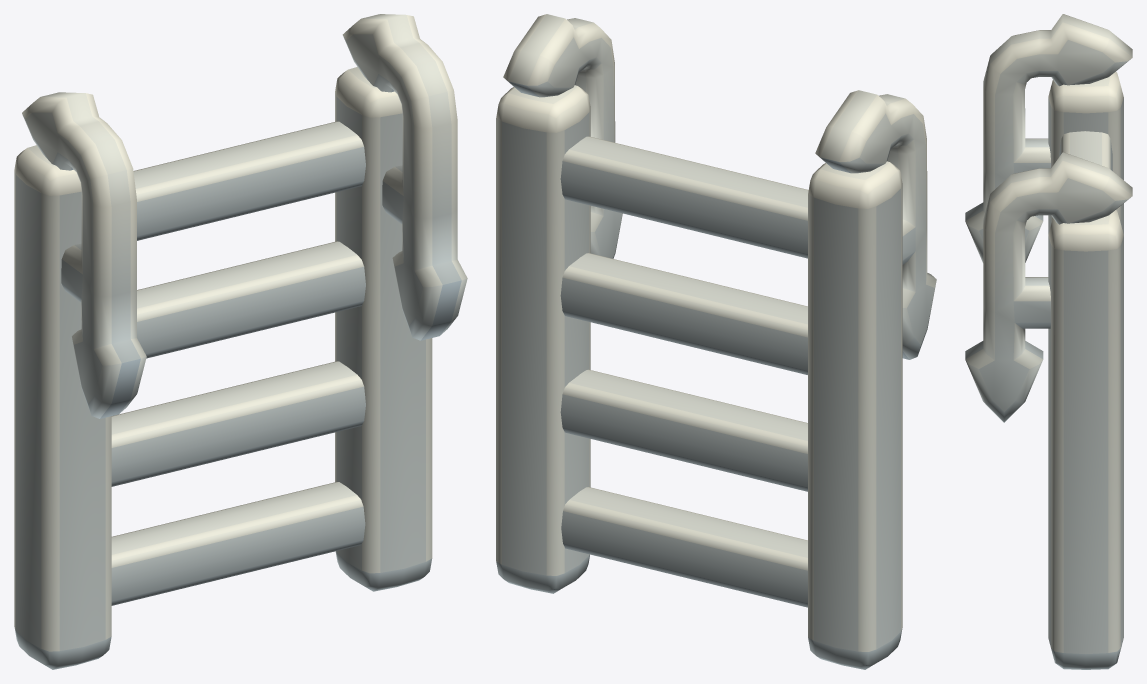
Rendered from Quartz_Ladder_Top_Light.fbx.
The picture shows the model from 3 angles, left to right: view 1: azimuth 30°, elevation 25°; view 2: azimuth 150°, elevation 25°; view 3: azimuth 270°, elevation 25°; orthographic projection. The views are drawn at different scales.
Parts seen in each view (by area): view 1: Quartz_Ladder_Top_Light_LOD0; view 2: Quartz_Ladder_Top_Light_LOD0; view 3: Quartz_Ladder_Top_Light_LOD0.
Boxes of the visible parts, x1,y1,x2,y2 form: Quartz_Ladder_Top_Light_LOD0: (14, 14, 467, 669); Quartz_Ladder_Top_Light_LOD0: (496, 14, 936, 669); Quartz_Ladder_Top_Light_LOD0: (965, 14, 1132, 669).
Size of what is drawn, in the model's own units: 0.8613 by 1.19 by 0.3586.
